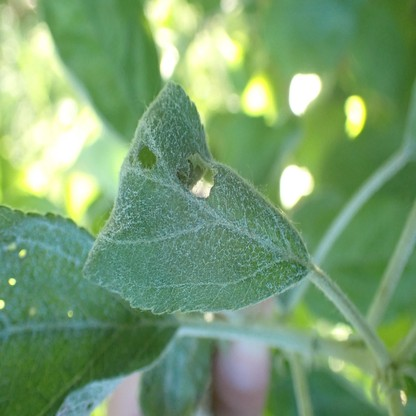powdery_mildew: (85, 81, 312, 313), (0, 216, 131, 345), (57, 378, 125, 416)
